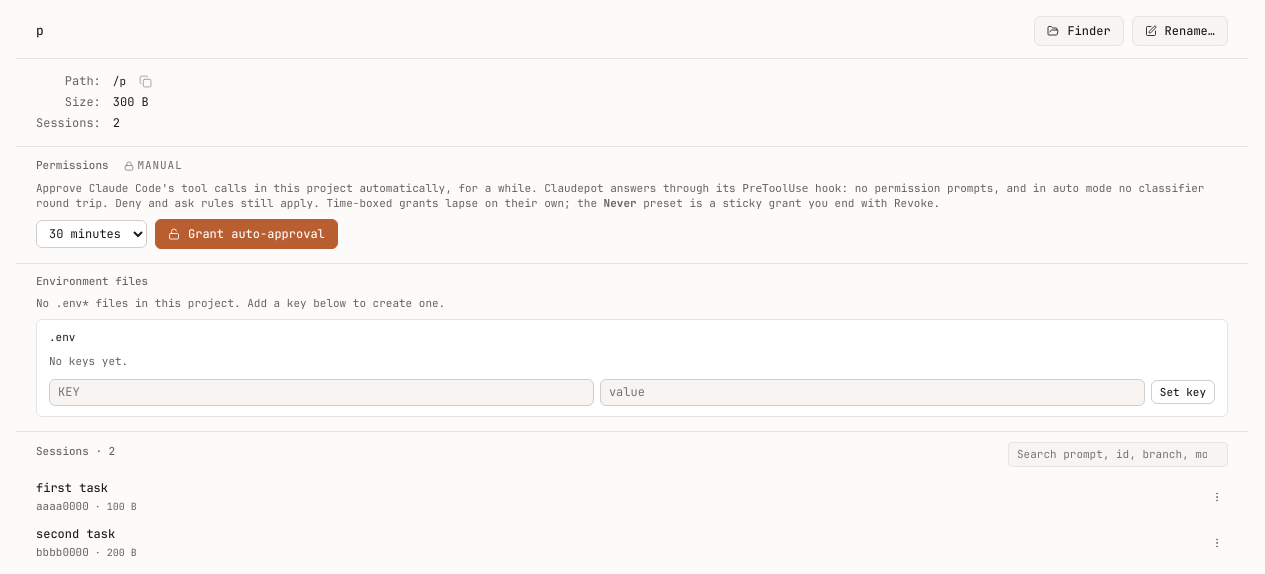
Test: ProjectDetail › filters sessions by git branch
Expected: the heading "Sessions · 2" is shown, [36, 444, 115, 459]
Expected: the text "first task" is shown, [36, 481, 108, 497]
Type "rotation" into the search field named "search sessions" at (1118, 454), box [1008, 442, 1228, 467]
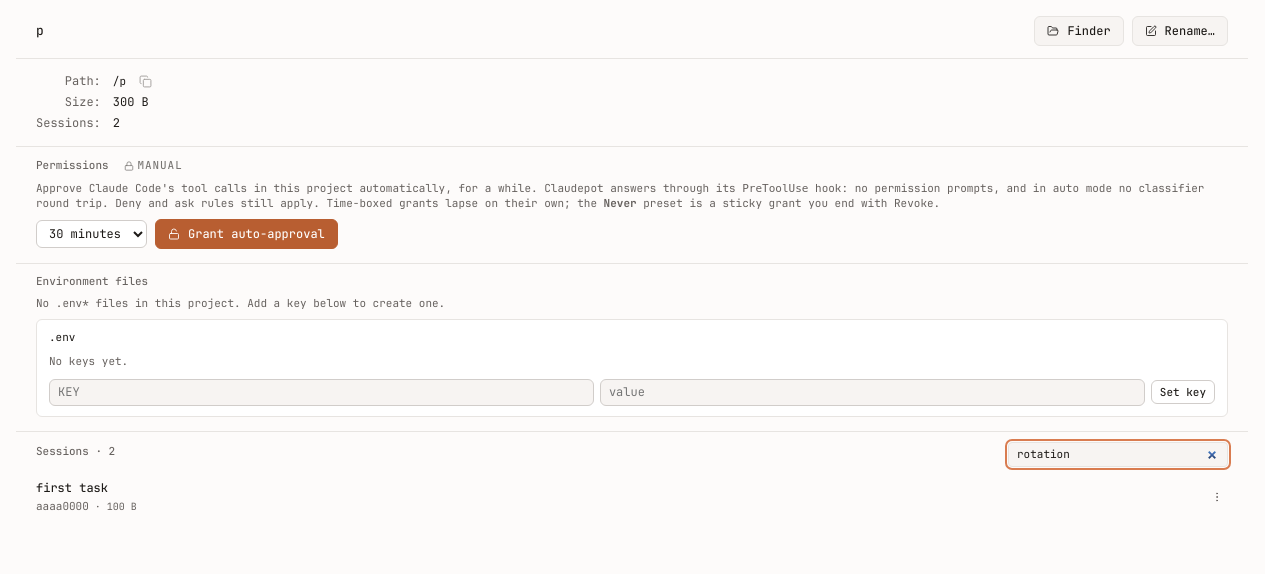
Expected: the text "first task" is shown, [36, 481, 108, 497]
Expected: the option "second task" is gone
